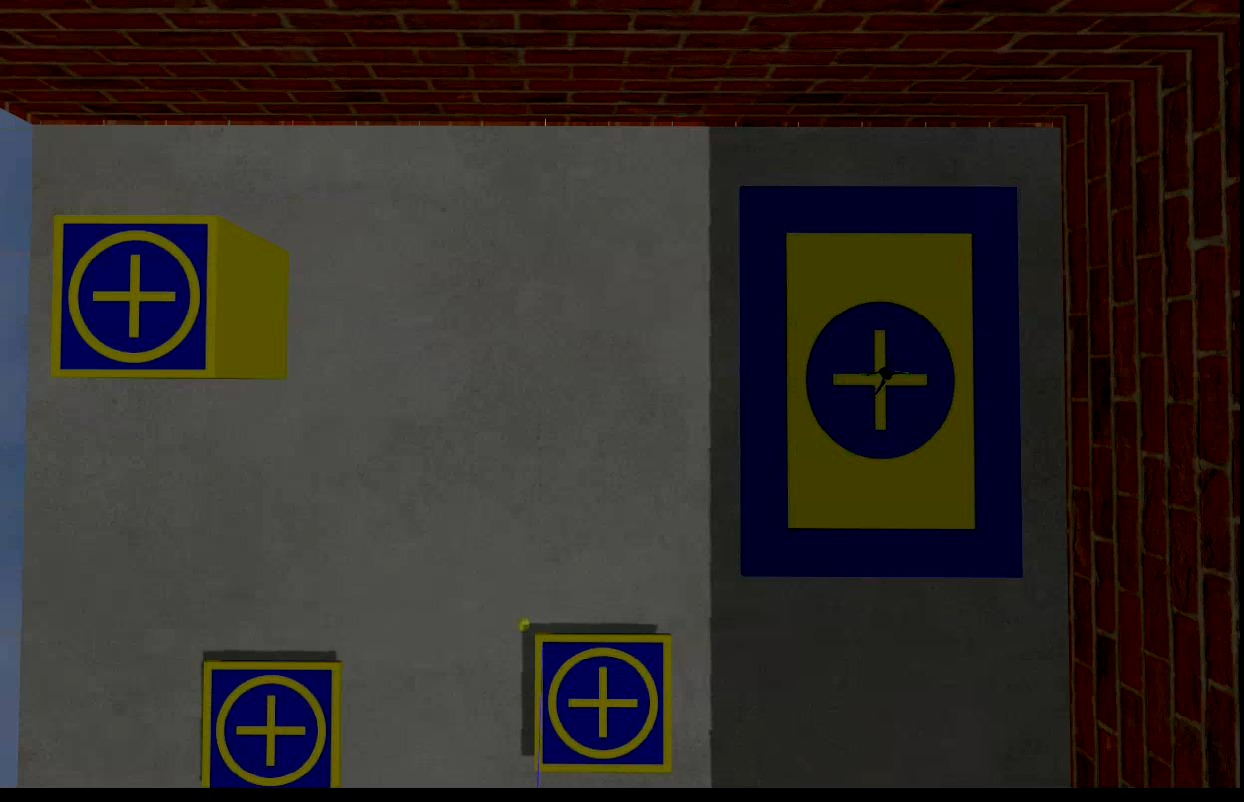large_base: (740, 182, 1027, 579)
small_base: (52, 213, 219, 380), (531, 631, 677, 770), (203, 658, 343, 791)
